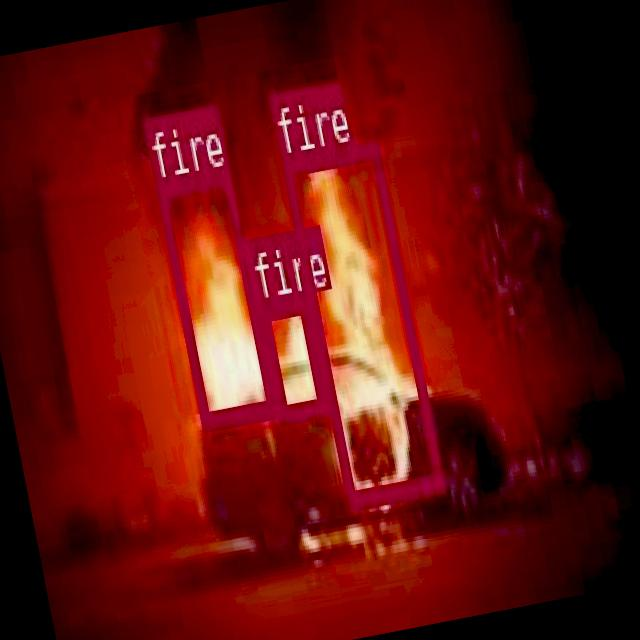fire: (277, 137, 443, 508), (154, 166, 276, 426), (257, 292, 327, 421)
